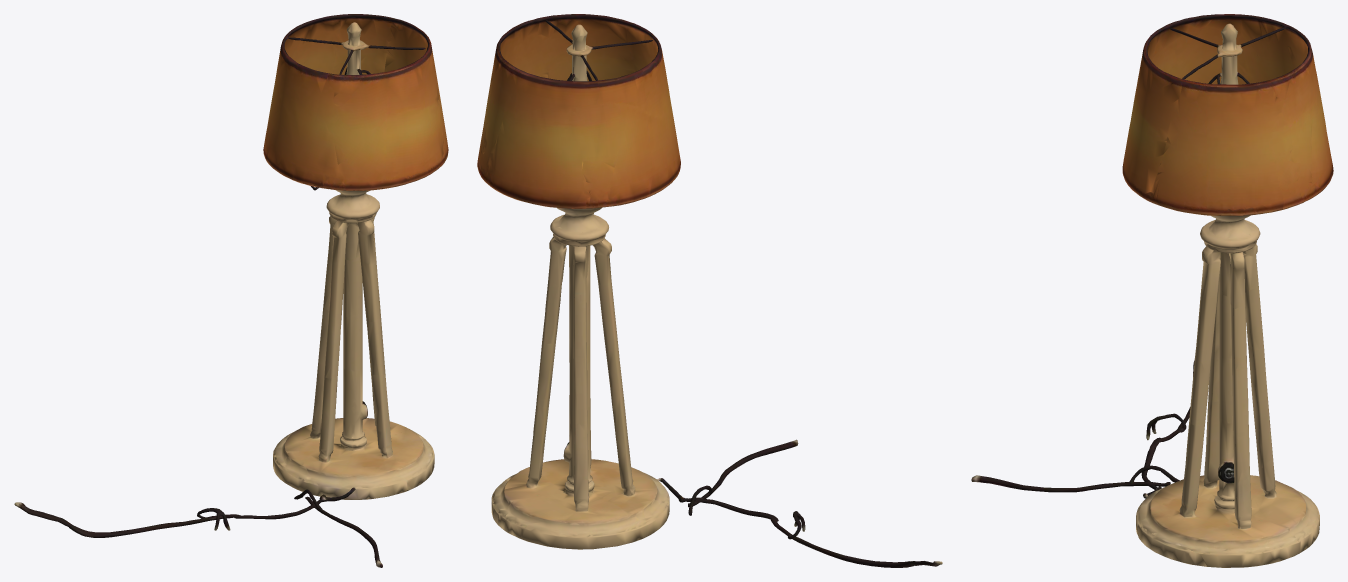
The model's file is floorlamp.glb.
The picture shows the model from 3 angles, left to right: view 1: azimuth 30°, elevation 25°; view 2: azimuth 150°, elevation 25°; view 3: azimuth 270°, elevation 25°; orthographic projection. The views are drawn at different scales.
Parts seen in each view (by area): view 1: tripo_node_8aed7e6d-0399-4ce4-a297-6d4b2d28a7c6; view 2: tripo_node_8aed7e6d-0399-4ce4-a297-6d4b2d28a7c6; view 3: tripo_node_8aed7e6d-0399-4ce4-a297-6d4b2d28a7c6.
Boxes of the visible parts, x1,y1,x2,y2 form: tripo_node_8aed7e6d-0399-4ce4-a297-6d4b2d28a7c6: [14, 14, 448, 567]; tripo_node_8aed7e6d-0399-4ce4-a297-6d4b2d28a7c6: [477, 14, 942, 567]; tripo_node_8aed7e6d-0399-4ce4-a297-6d4b2d28a7c6: [971, 14, 1333, 567].
Size of the model in its own units: 0.981 by 0.9999 by 0.6486.
1 material, 1 textured.
